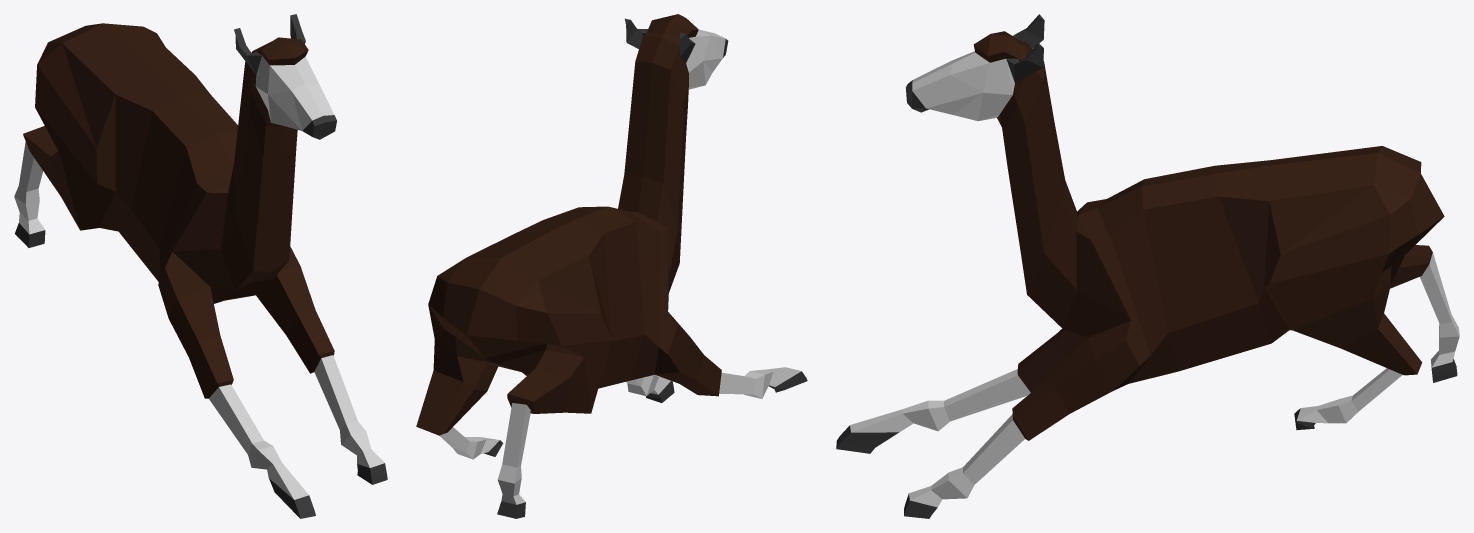
The model's file is Llama__1_000017.obj.
The picture shows the model from 3 angles, left to right: view 1: azimuth 30°, elevation 25°; view 2: azimuth 150°, elevation 25°; view 3: azimuth 270°, elevation 25°; orthographic projection. The views are drawn at different scales.
Visible parts, largest first — view 1: Llama_Cylinder; view 2: Llama_Cylinder; view 3: Llama_Cylinder.
Part boxes in pixels (bbox=[...]): Llama_Cylinder: bbox=[14, 14, 387, 518]; Llama_Cylinder: bbox=[416, 14, 807, 518]; Llama_Cylinder: bbox=[836, 14, 1459, 518].
Size of the model in its own units: 1.57 by 4.77 by 5.89.
